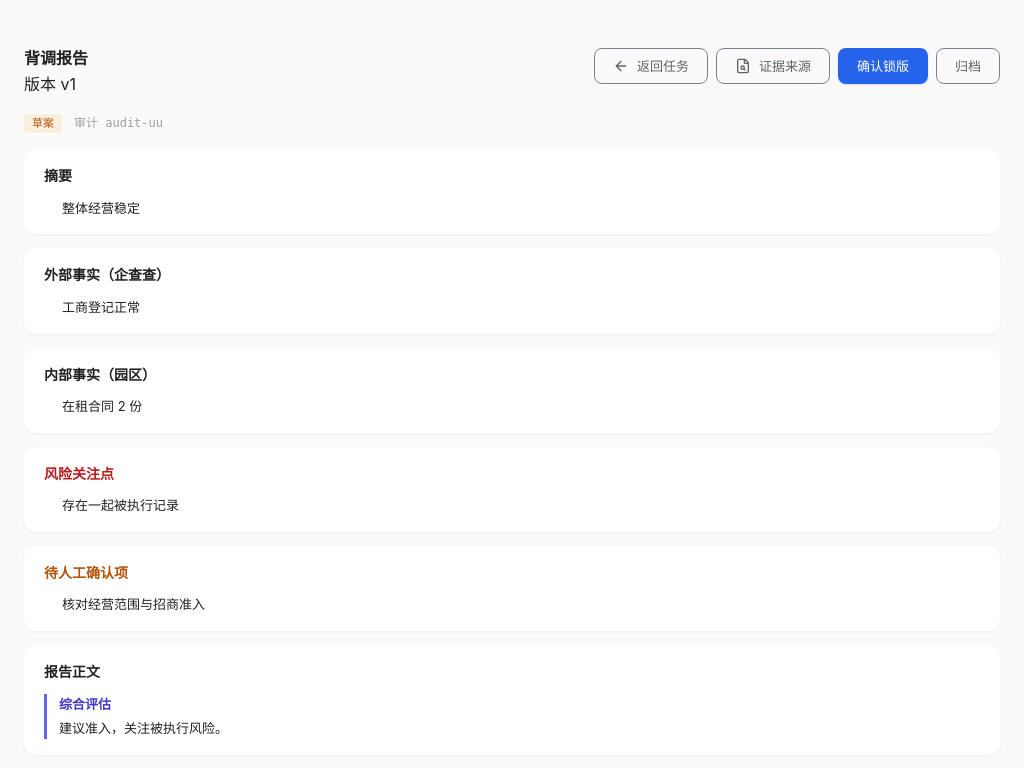
it: DdReportView.vue (REQ-046 / APP-005) › confirm locks the report version
What coordinates should you click on to do the following:
click the button with test id "confirm-report-btn"
I would click on:
 (883, 66)
Its box is [838,48,928,84].
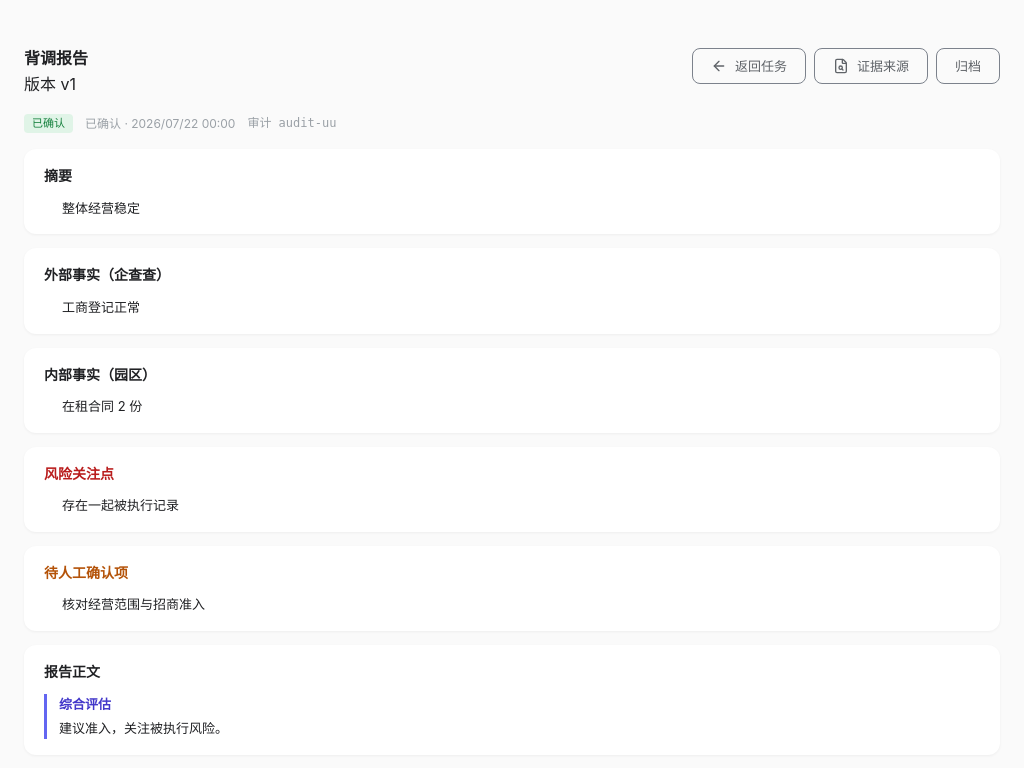
Result: the text with test id "report-status" reads "已确认" at [32,116,65,130]
